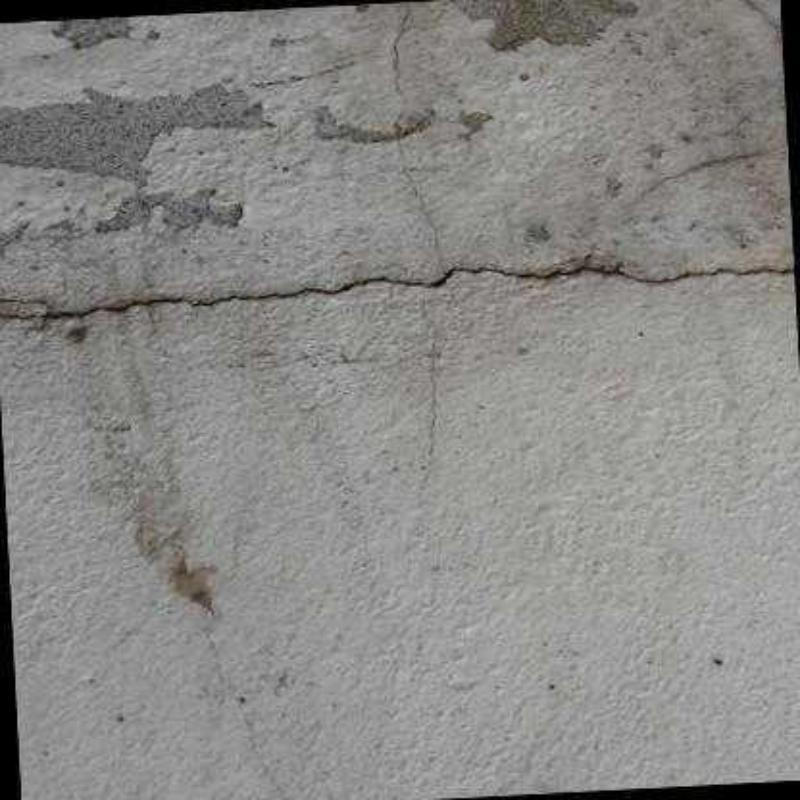pothole: (0, 268, 794, 319)
